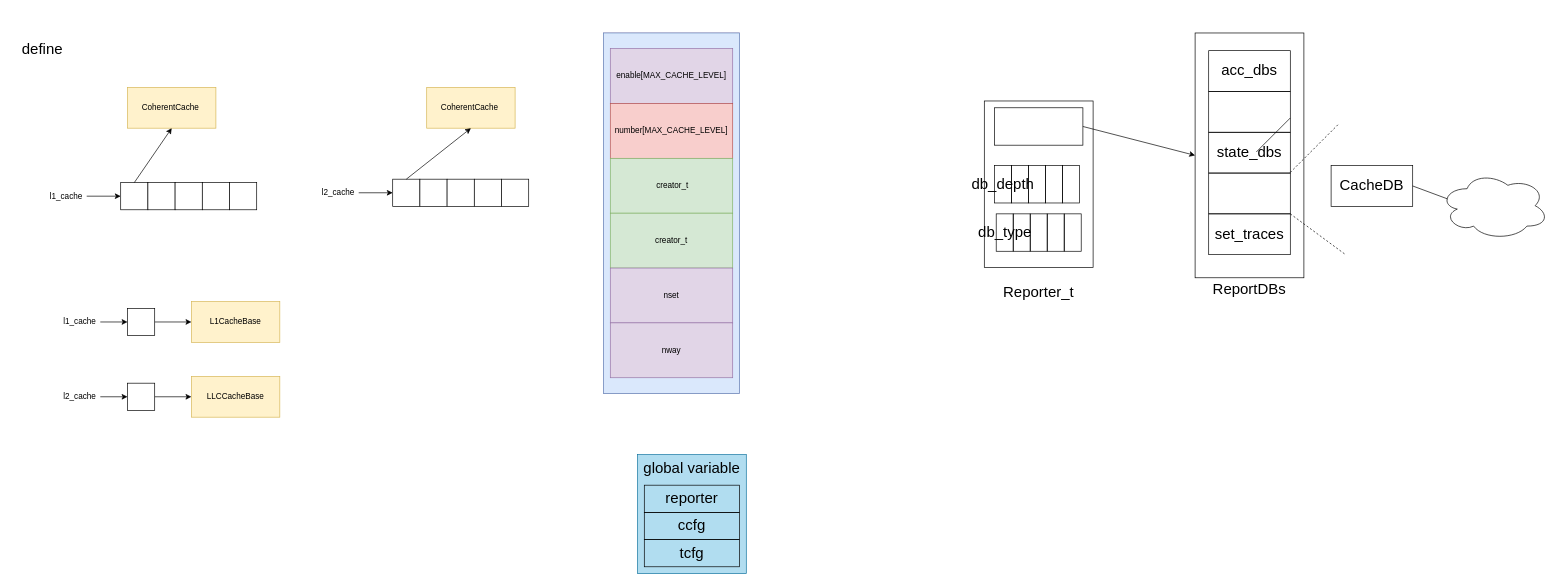
This 1561x585 diagram has some shape labels left out. The centre of each missing label's shape, as x and y in pixels:
"addr_dbs" goes at point 1249,111.
"addr_traces" goes at point 1249,193.
"dbs" goes at point 1038,126.
"map" goes at point 1494,205.
